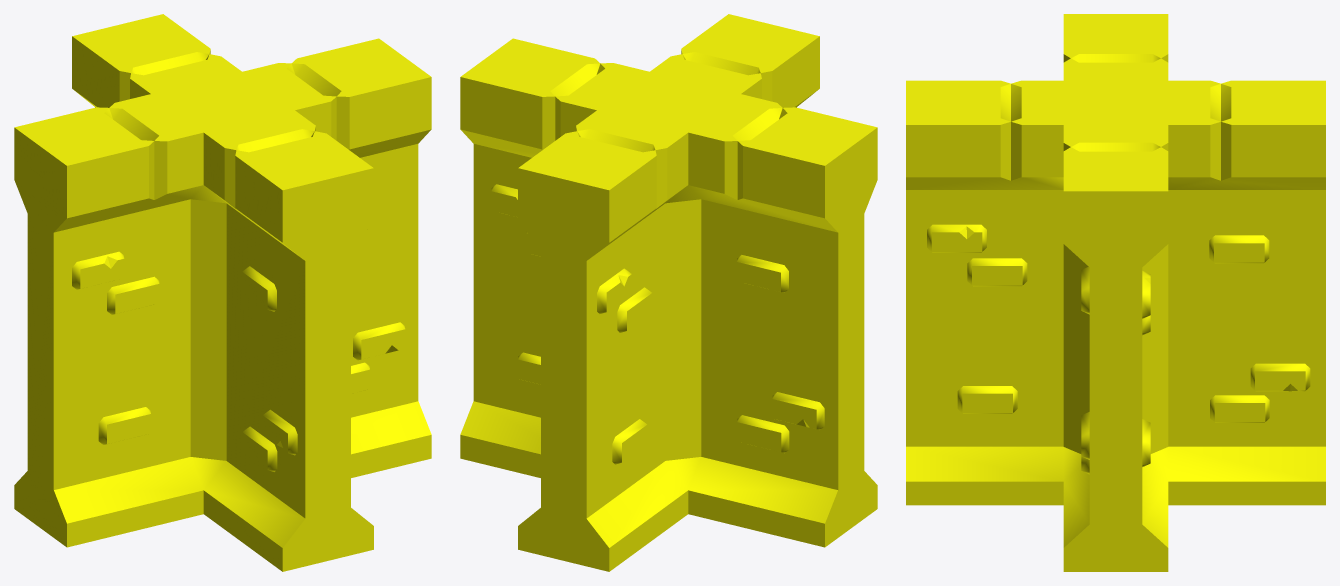
Rendered from kaykit-wall-crossing.glb.
The picture shows the model from 3 angles, left to right: view 1: azimuth 30°, elevation 25°; view 2: azimuth 150°, elevation 25°; view 3: azimuth 270°, elevation 25°; orthographic projection.
Parts seen in each view (by area): view 1: wall_crossing; view 2: wall_crossing; view 3: wall_crossing.
Part boxes in pixels (left/top/right/bottom): wall_crossing: left=14, top=14, right=431, bottom=571; wall_crossing: left=460, top=14, right=877, bottom=571; wall_crossing: left=906, top=14, right=1325, bottom=571.
Bounding box in the file's own units: 4 × 4 × 4.
